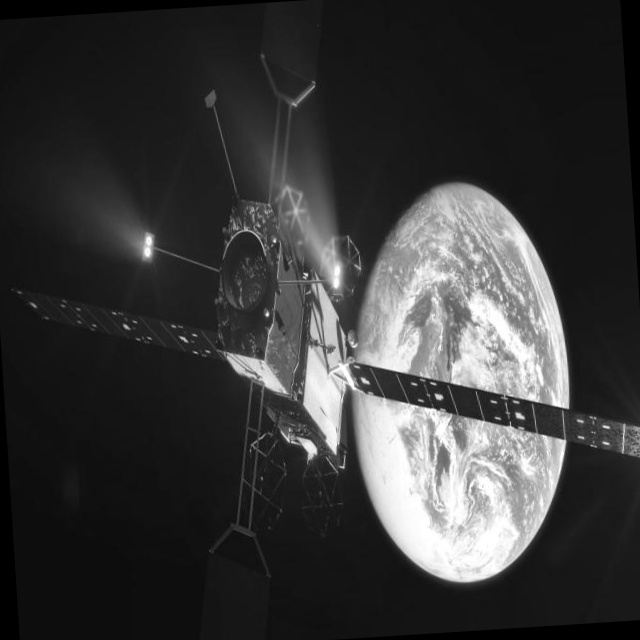satellite: (0, 27, 640, 626)
